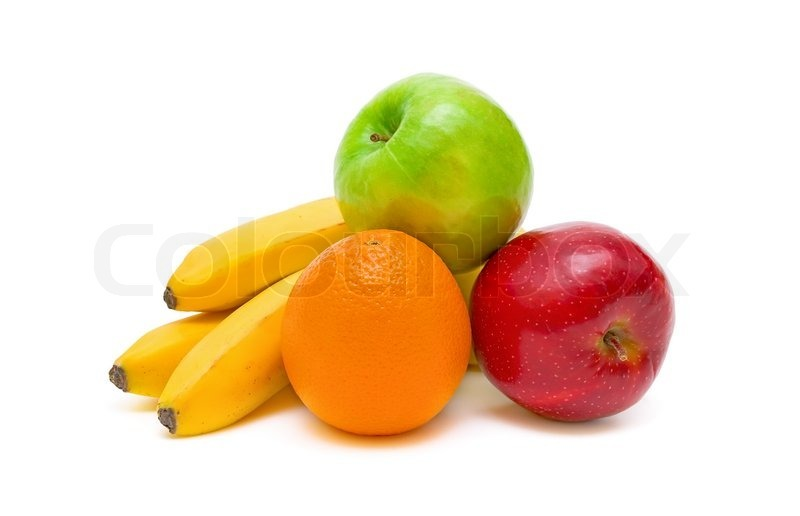apple: (463, 223, 690, 434)
banana: (154, 258, 510, 455)
orange: (262, 231, 485, 445)
